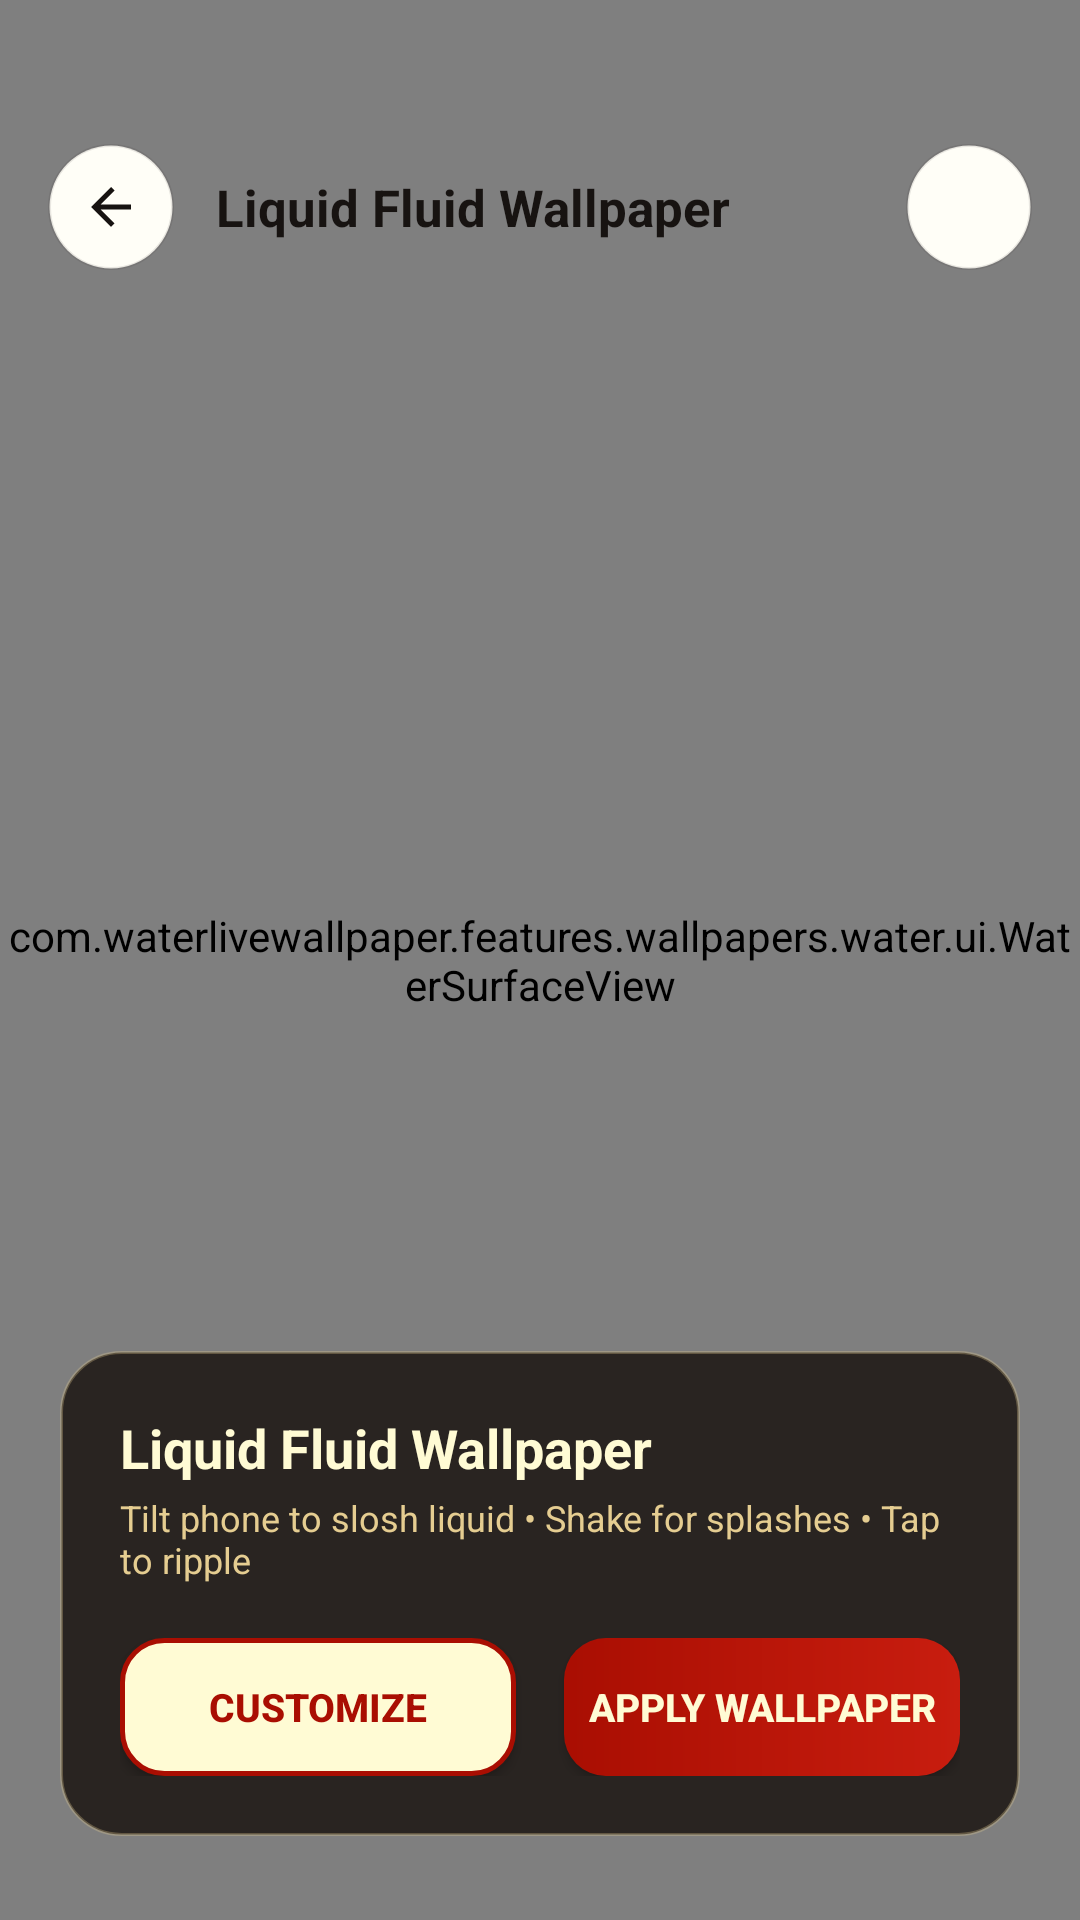

Where to tap for icons on this 1080 x 1920 app screen, as [x,y]:
Back: [111,207]
